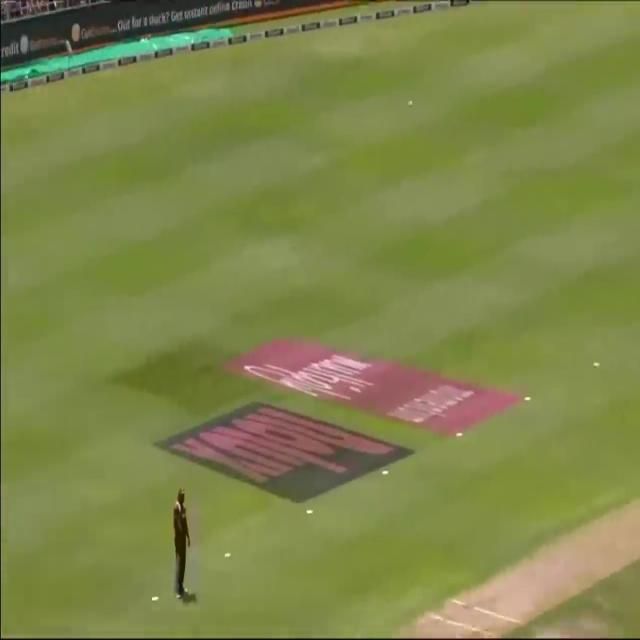Fielder: (159, 482, 202, 604)
